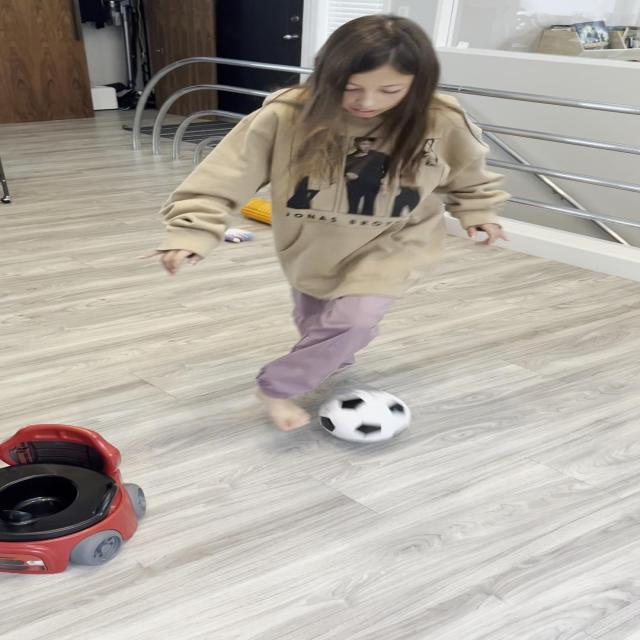Soccer Ball: (317, 388, 410, 443)
